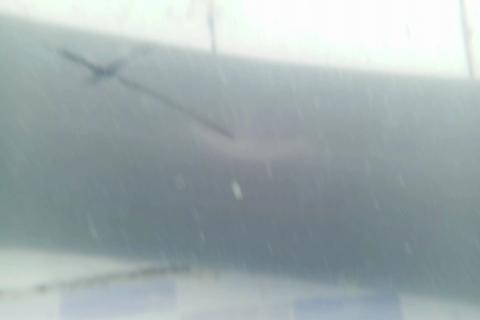keretakan: (59, 31, 239, 148)
